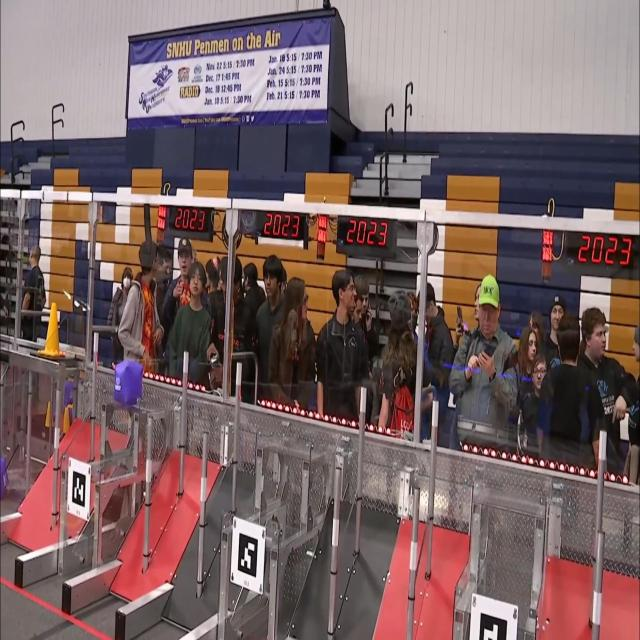frc_cone: (38, 302, 67, 360), (44, 399, 54, 428), (62, 406, 72, 434)
frc_cube: (114, 360, 143, 407), (0, 453, 10, 502), (64, 380, 75, 410)
